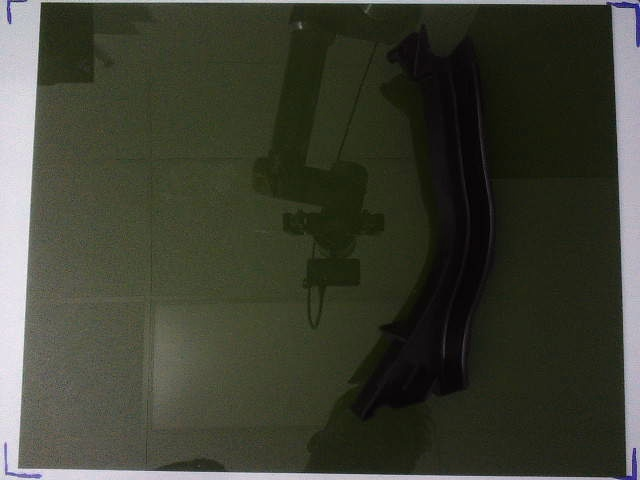887_A-Under: (352, 26, 495, 418)
